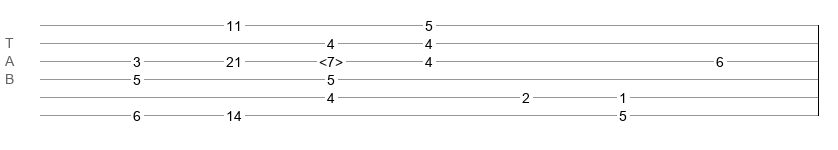1: (619, 90, 627, 100)
11: (226, 18, 242, 28)
14: (226, 108, 242, 118)
2: (522, 90, 530, 100)
21: (226, 54, 242, 64)
3: (133, 54, 141, 64)
4: (327, 90, 335, 100), (327, 36, 335, 46), (425, 54, 433, 64), (425, 36, 433, 46)
5: (133, 72, 141, 82), (327, 72, 335, 82), (425, 18, 433, 28), (619, 108, 627, 118)
6: (133, 108, 141, 118), (716, 54, 724, 64)
harmonic: (319, 54, 343, 64)
